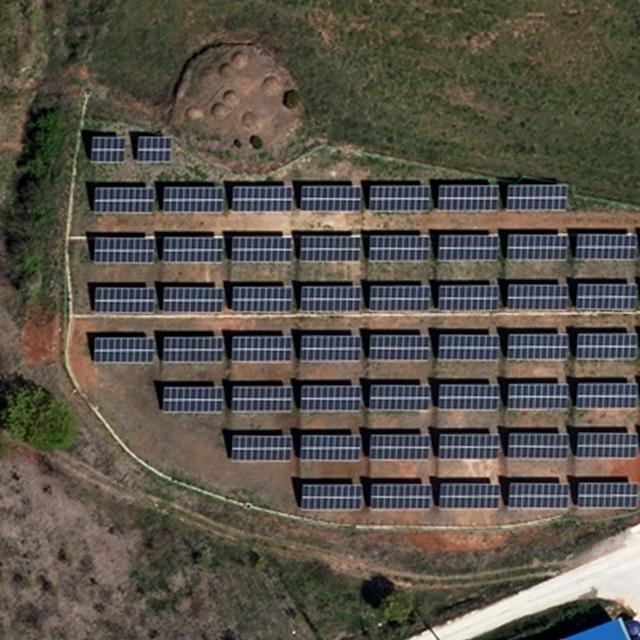solarpanel: (298, 180, 364, 215), (505, 379, 571, 412), (228, 432, 293, 465), (297, 332, 362, 365), (89, 333, 156, 365), (162, 182, 229, 214), (158, 384, 227, 415), (574, 282, 638, 315), (436, 181, 502, 213), (300, 282, 364, 315), (435, 231, 500, 263), (297, 232, 362, 264), (93, 233, 156, 266), (438, 282, 501, 315), (91, 184, 155, 216), (505, 283, 569, 315), (436, 330, 500, 362), (368, 182, 432, 214), (506, 231, 569, 263), (160, 233, 223, 265), (368, 382, 433, 413), (368, 282, 433, 313), (300, 432, 362, 464), (506, 331, 570, 362), (231, 384, 297, 414), (505, 182, 568, 213), (93, 285, 158, 315), (505, 430, 570, 460), (573, 382, 640, 411), (368, 433, 432, 463), (573, 231, 633, 263), (298, 482, 364, 511), (574, 481, 640, 510), (572, 332, 638, 361), (369, 482, 432, 512), (368, 332, 431, 362), (574, 430, 636, 460), (507, 482, 571, 511), (299, 383, 362, 412), (231, 234, 294, 263), (369, 233, 434, 261), (231, 184, 293, 213), (160, 286, 224, 314), (436, 432, 500, 460), (436, 383, 500, 411), (230, 284, 294, 312), (437, 481, 501, 507), (161, 336, 225, 360), (87, 134, 130, 165), (135, 133, 172, 162)
